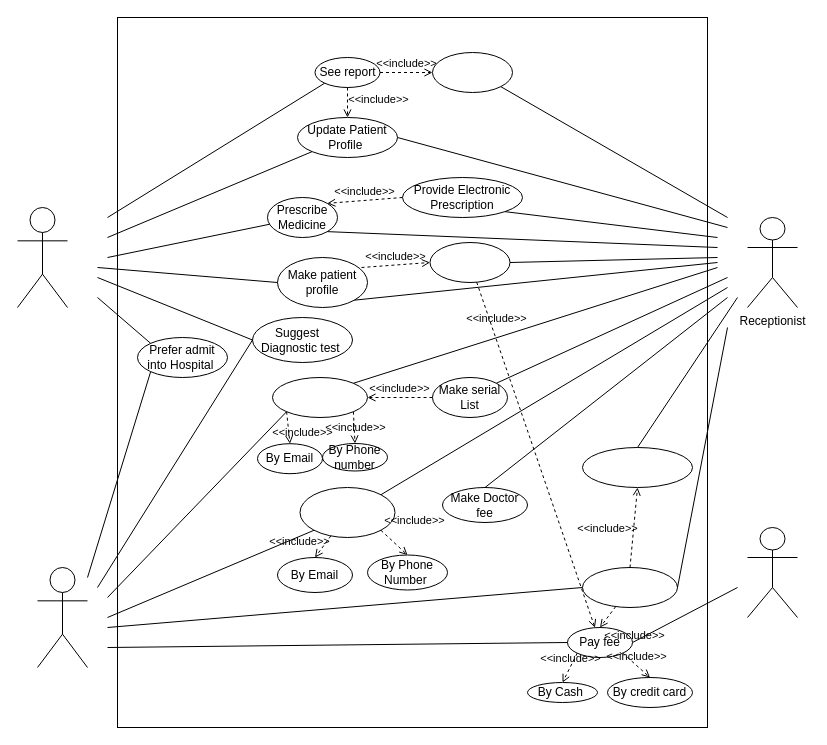
Image size: 827x745. Some labels were removed from this diagram. Each missing label, with the box of its shape:
Ask for Appointment: (272, 376, 368, 418)
Billing System: (746, 526, 798, 618)
Confirm Appoinment: (582, 566, 678, 608)
Doctor: (16, 206, 68, 308)
Notify patient with serial number: (299, 486, 395, 538)
Patient: (36, 566, 88, 668)
Register new patient: (429, 242, 510, 282)
Report Appointment: (432, 52, 512, 92)
Verify Registration: (582, 446, 692, 488)
